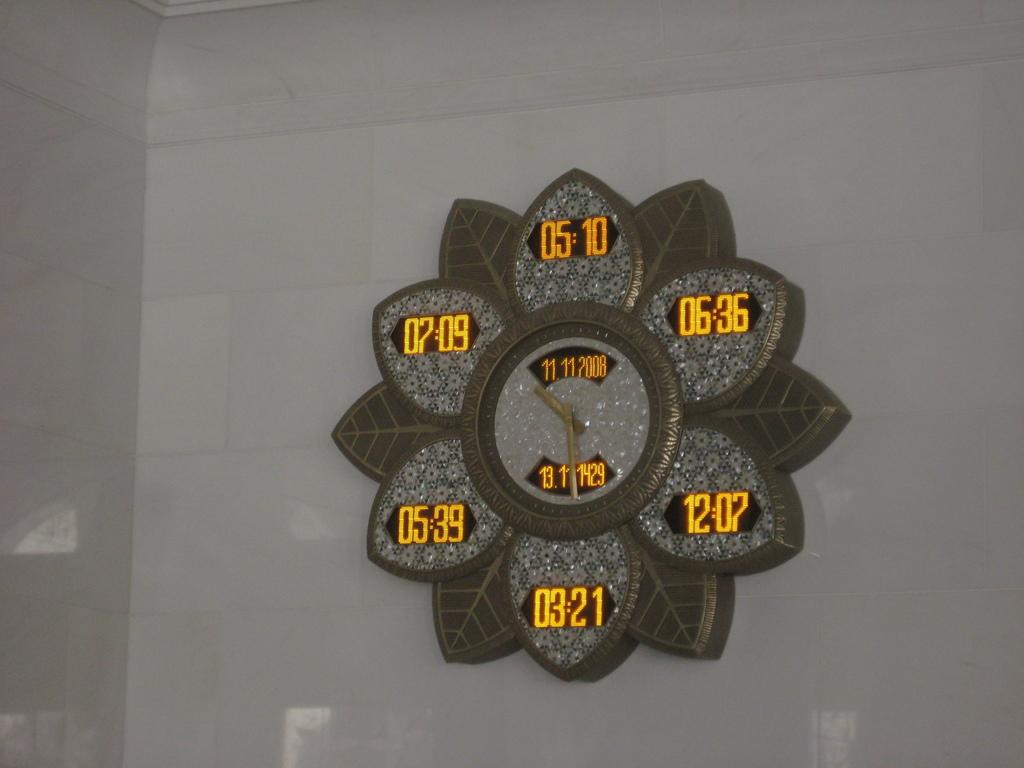Luggage-and-bags: (329, 165, 852, 682)
